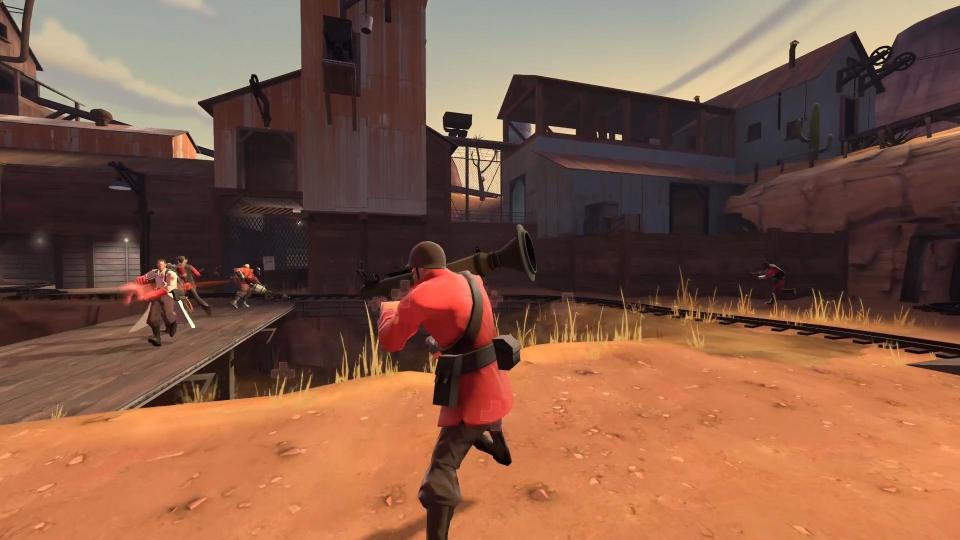Enemy: (352, 222, 540, 540), (135, 259, 197, 347), (231, 262, 291, 310), (174, 255, 213, 316), (747, 261, 799, 305)
